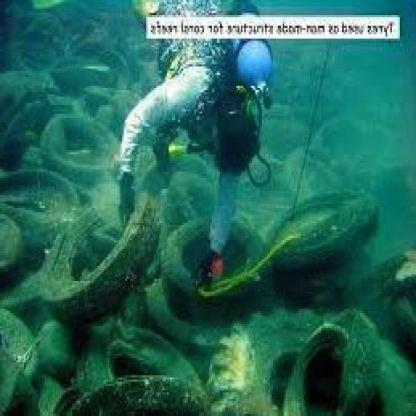tire: (247, 300, 381, 416), (51, 204, 148, 309), (62, 334, 183, 416), (37, 105, 140, 195), (172, 200, 256, 309)
